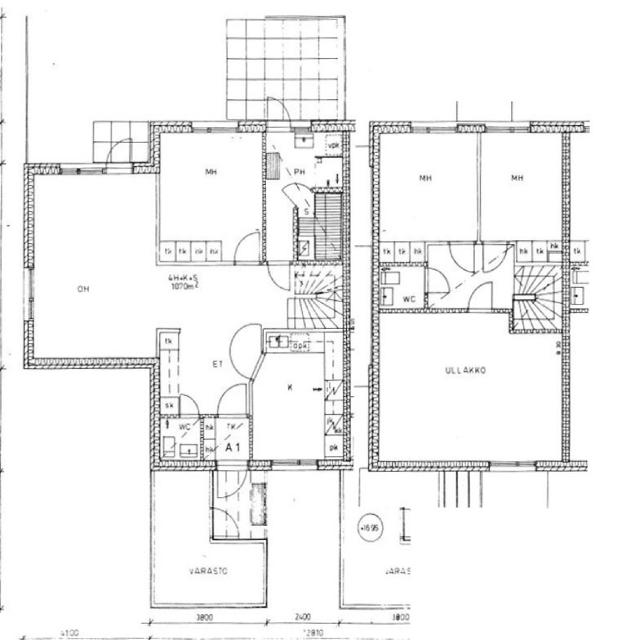door: (225, 320, 263, 381), (214, 458, 250, 499), (215, 379, 250, 420), (231, 227, 264, 268), (445, 238, 480, 276), (208, 505, 242, 540), (465, 277, 497, 314), (263, 94, 294, 132), (478, 237, 509, 274), (105, 137, 134, 176), (265, 256, 294, 294), (423, 264, 452, 295), (177, 391, 201, 419), (280, 182, 302, 206)
window: (486, 456, 542, 476), (21, 262, 39, 321), (270, 455, 322, 474), (190, 120, 240, 138), (408, 120, 458, 138), (59, 161, 107, 179), (483, 120, 532, 137), (290, 120, 314, 134), (0, 120, 7, 164)
zone: (376, 308, 567, 468), (26, 171, 159, 358), (156, 129, 266, 260), (249, 329, 348, 463), (372, 130, 482, 246), (478, 130, 568, 243), (266, 188, 346, 260), (265, 130, 345, 191), (375, 264, 428, 312), (159, 415, 202, 468), (214, 416, 251, 464), (514, 240, 567, 264), (378, 240, 428, 265), (316, 155, 346, 190)
